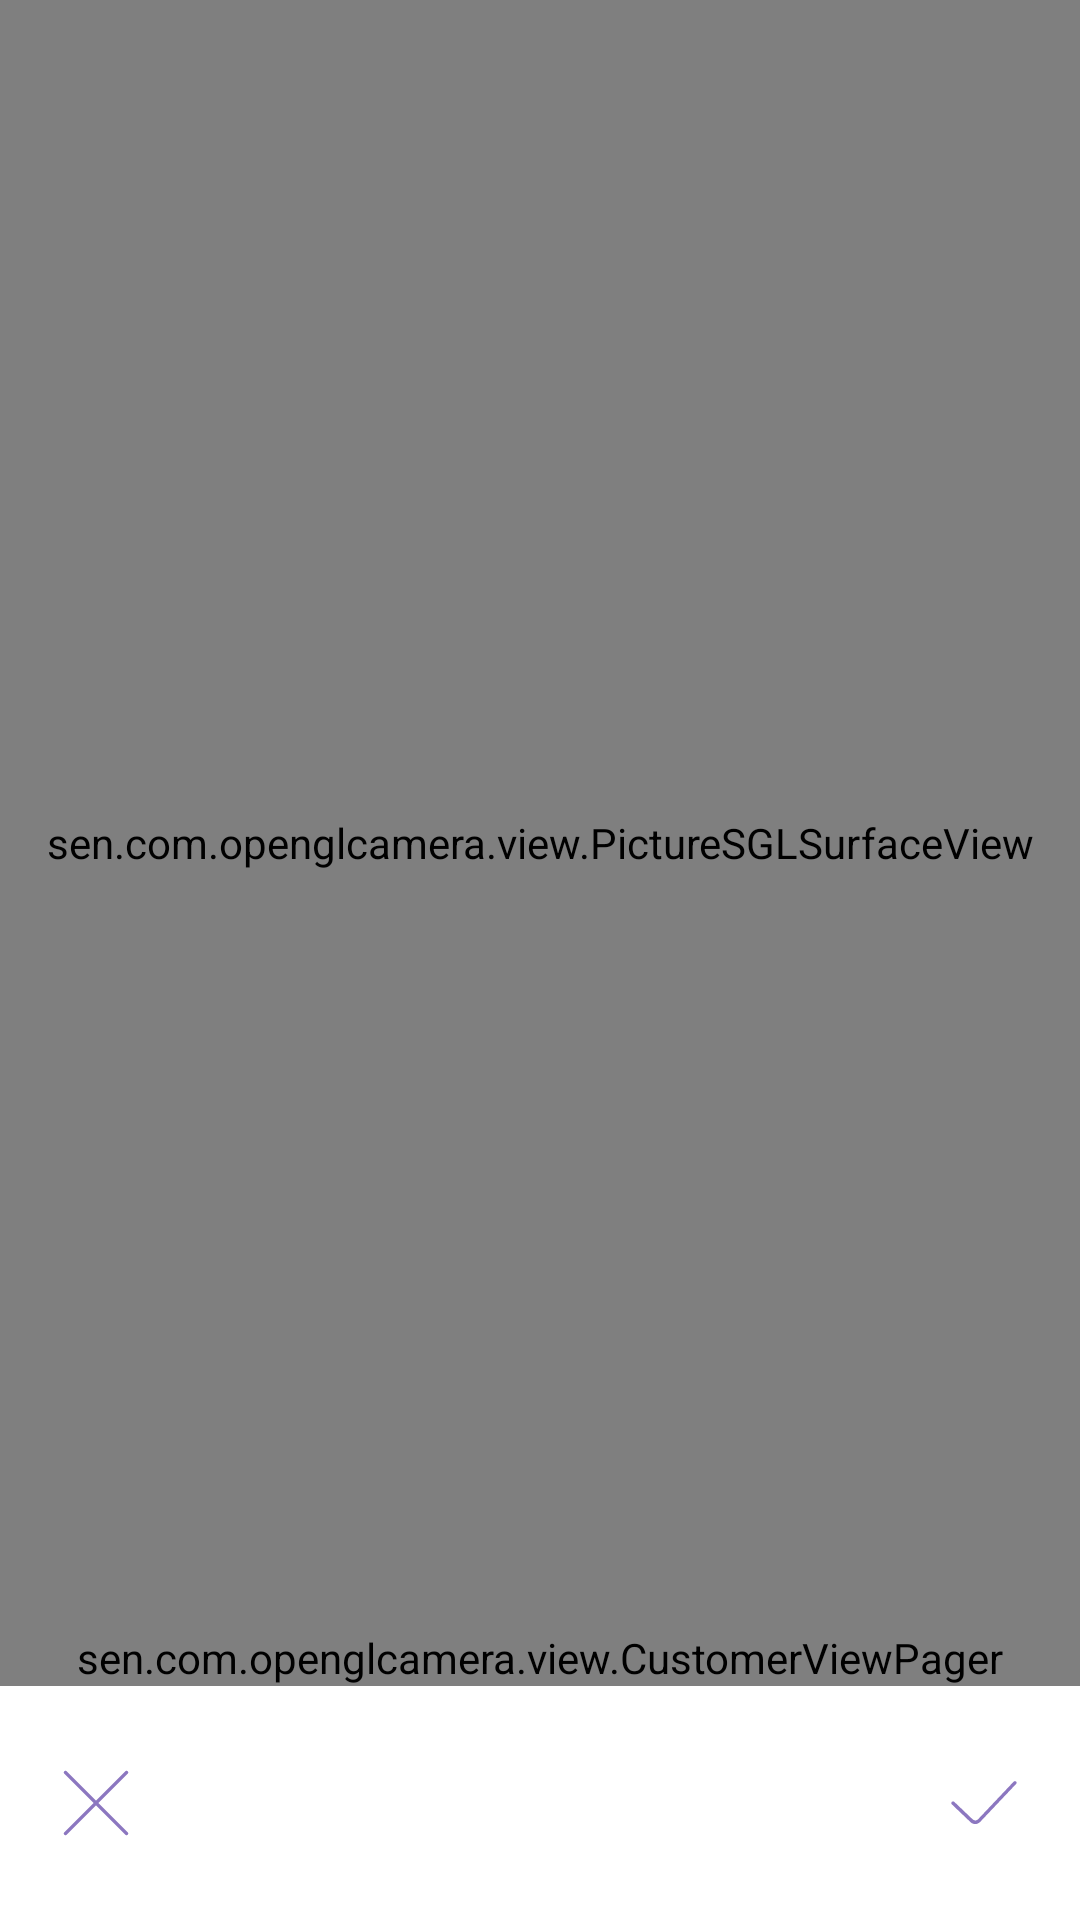

Icons on this 1080px×1920px Android screen, each with the point to tap as [x,y]:
close: [96,1803]
right: [984,1802]
